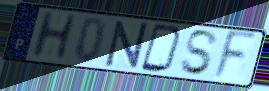0: (73, 17, 108, 65)
D: (138, 22, 185, 75)
F: (210, 28, 259, 83)
H: (28, 9, 80, 60)
N: (104, 19, 150, 70)
S: (179, 29, 220, 77)
